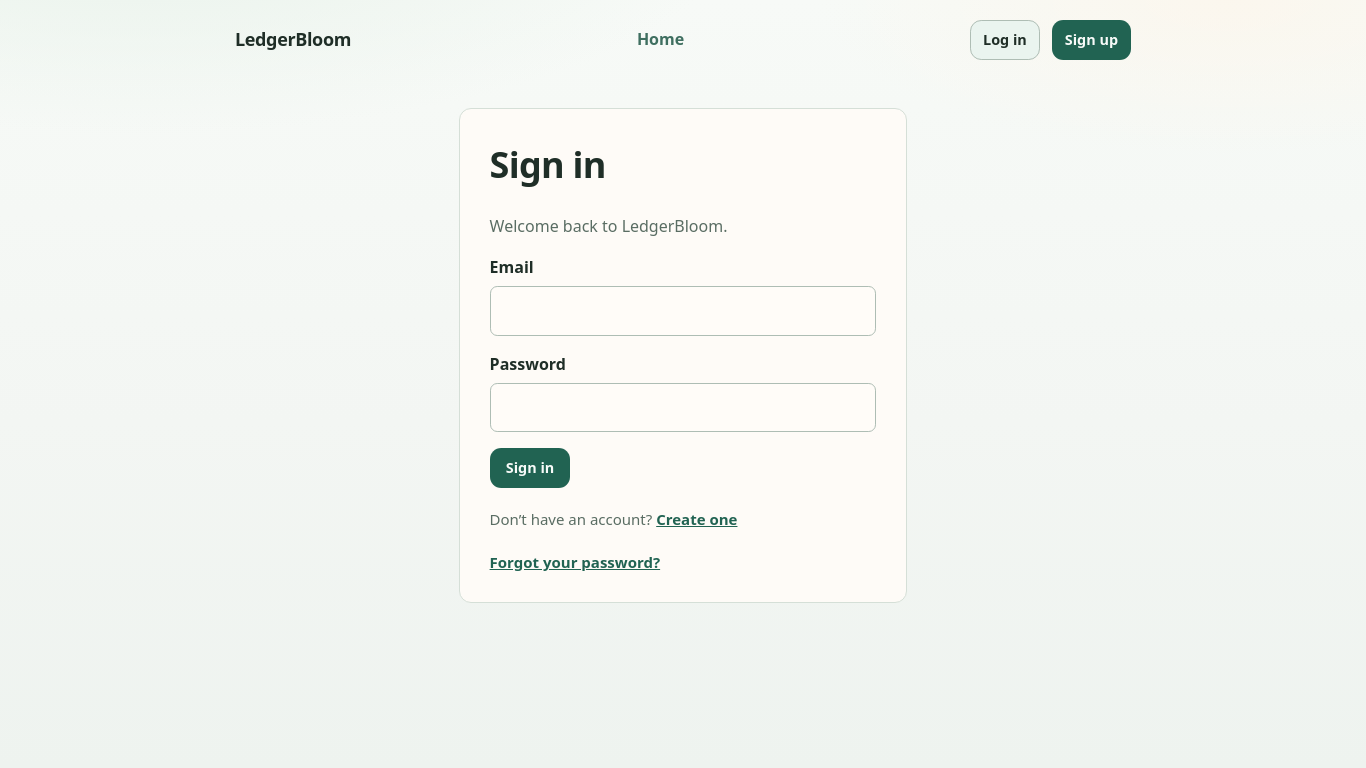
it: Auth routes › logs in successfully and redirects back to the originally requested page
The image size is (1366, 768).
Check: the heading "Sign in" is shown, box [490,140,606,189]
In the field labelled "Email": (683, 311) [490,286,876,336], type "user@example.com"
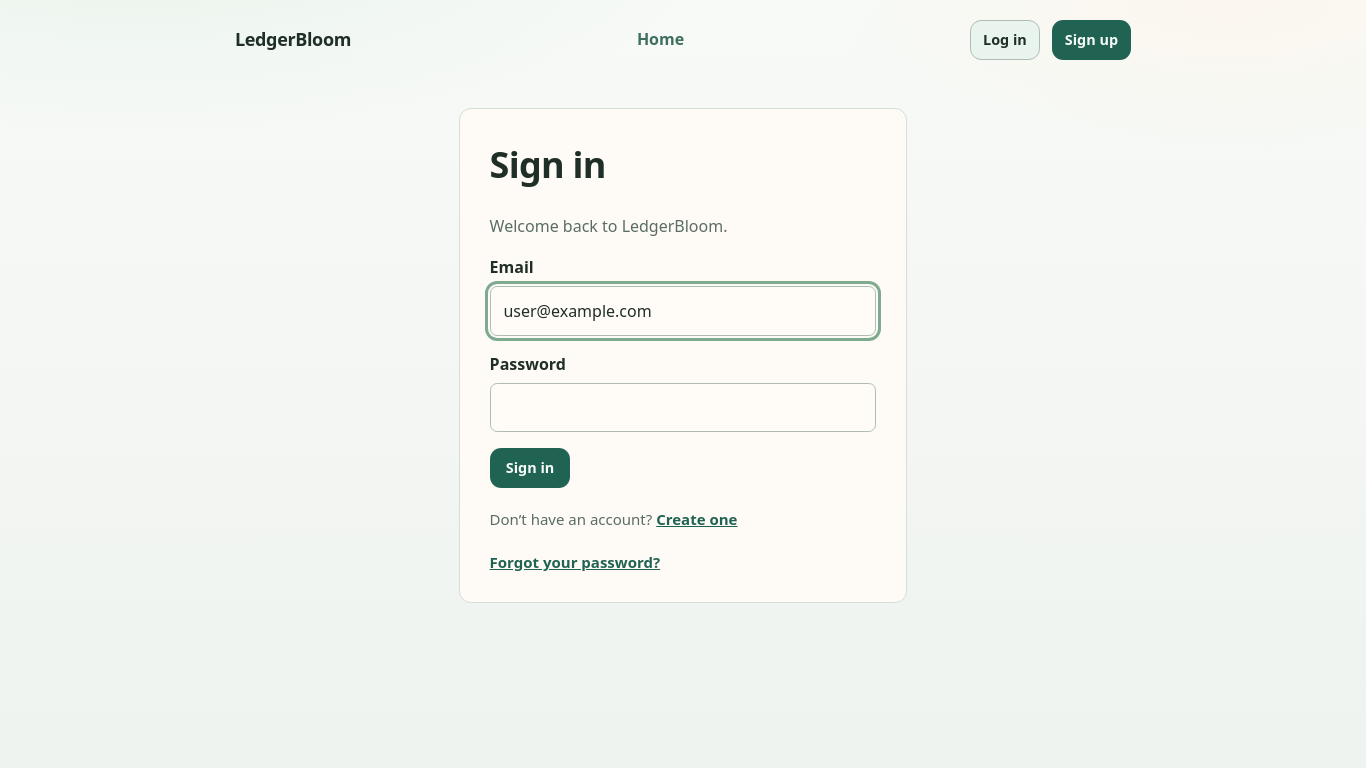
In the password field labelled "Password": (683, 407) [490,383,876,432], type "supersecret12"
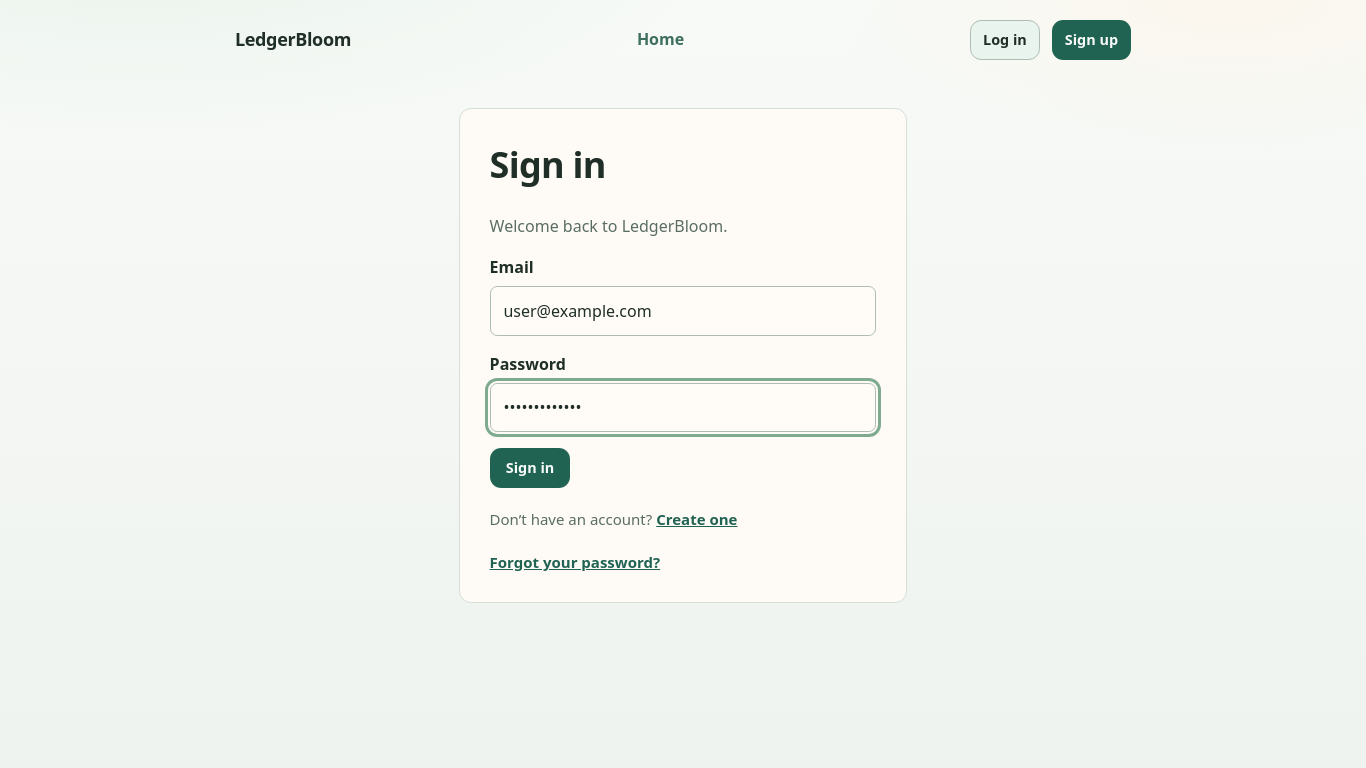
Click the button "Sign in": (530, 468) [490,448,570,488]
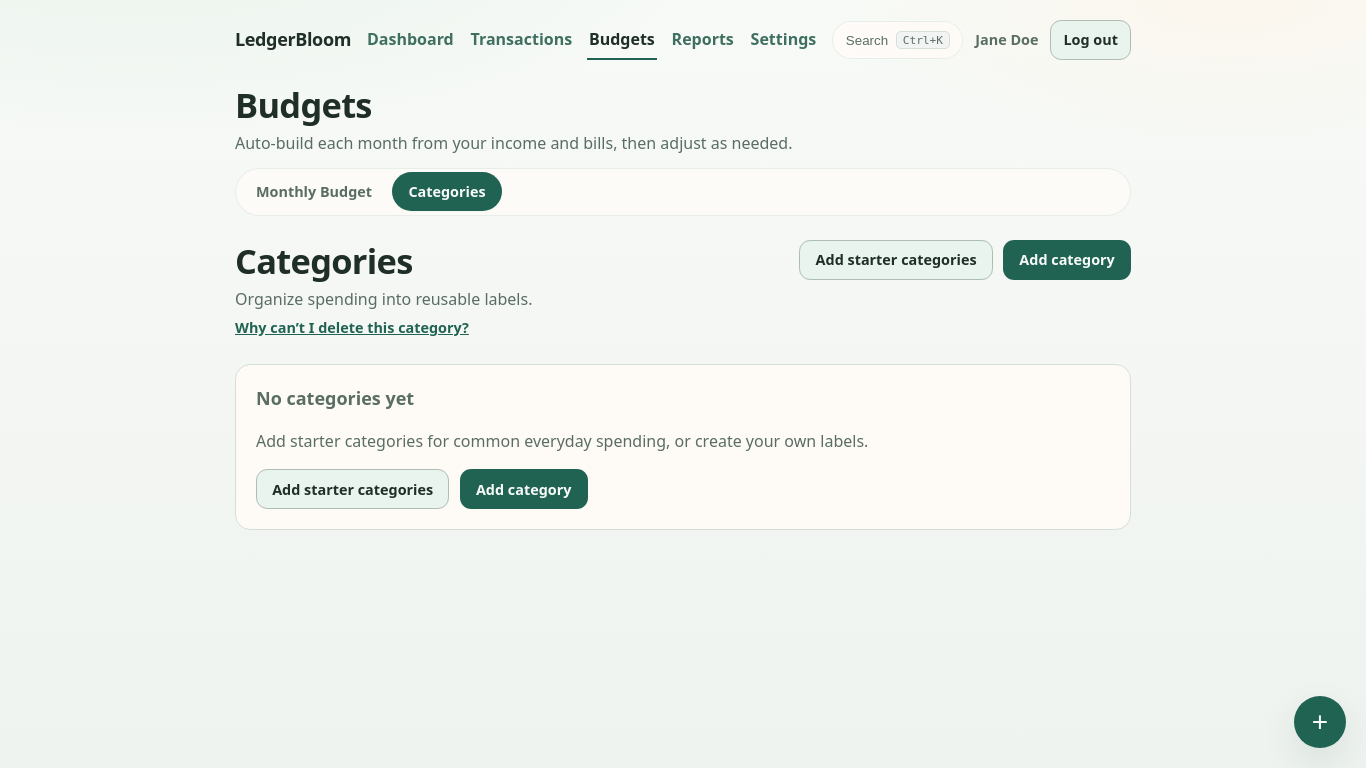
Check: the heading "Categories" is shown, box [235,237,413,284]
